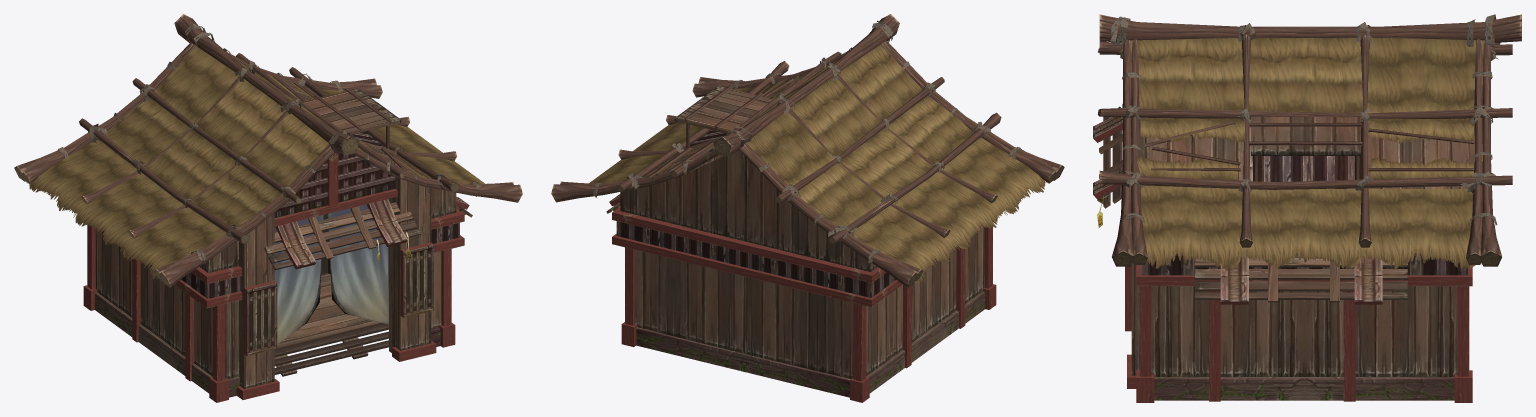
The model's file is room004.FBX.
3 views of the same model, side by side, from view 1: azimuth 30°, elevation 25°; view 2: azimuth 150°, elevation 25°; view 3: azimuth 270°, elevation 25° (orthographic). The views are drawn at different scales.
Visible parts, largest first — view 1: room004; view 2: room004; view 3: room004.
Boxes of the visible parts, box(x1,y1,x2,y2) form: room004: box(14, 14, 522, 402); room004: box(551, 14, 1064, 402); room004: box(1093, 14, 1521, 402).
Bounding box in the file's own units: 10.39 × 6.89 × 8.5.
